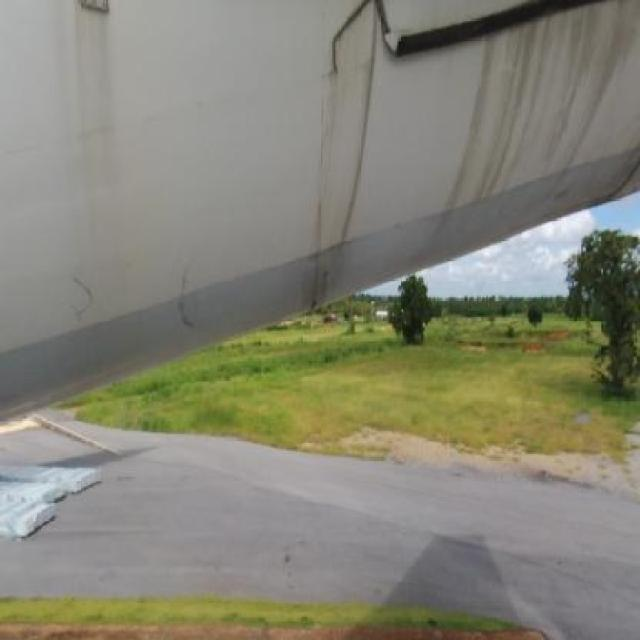Rust: (424, 4, 640, 267), (305, 0, 380, 334), (61, 0, 150, 232), (162, 249, 230, 363), (59, 270, 115, 347)
